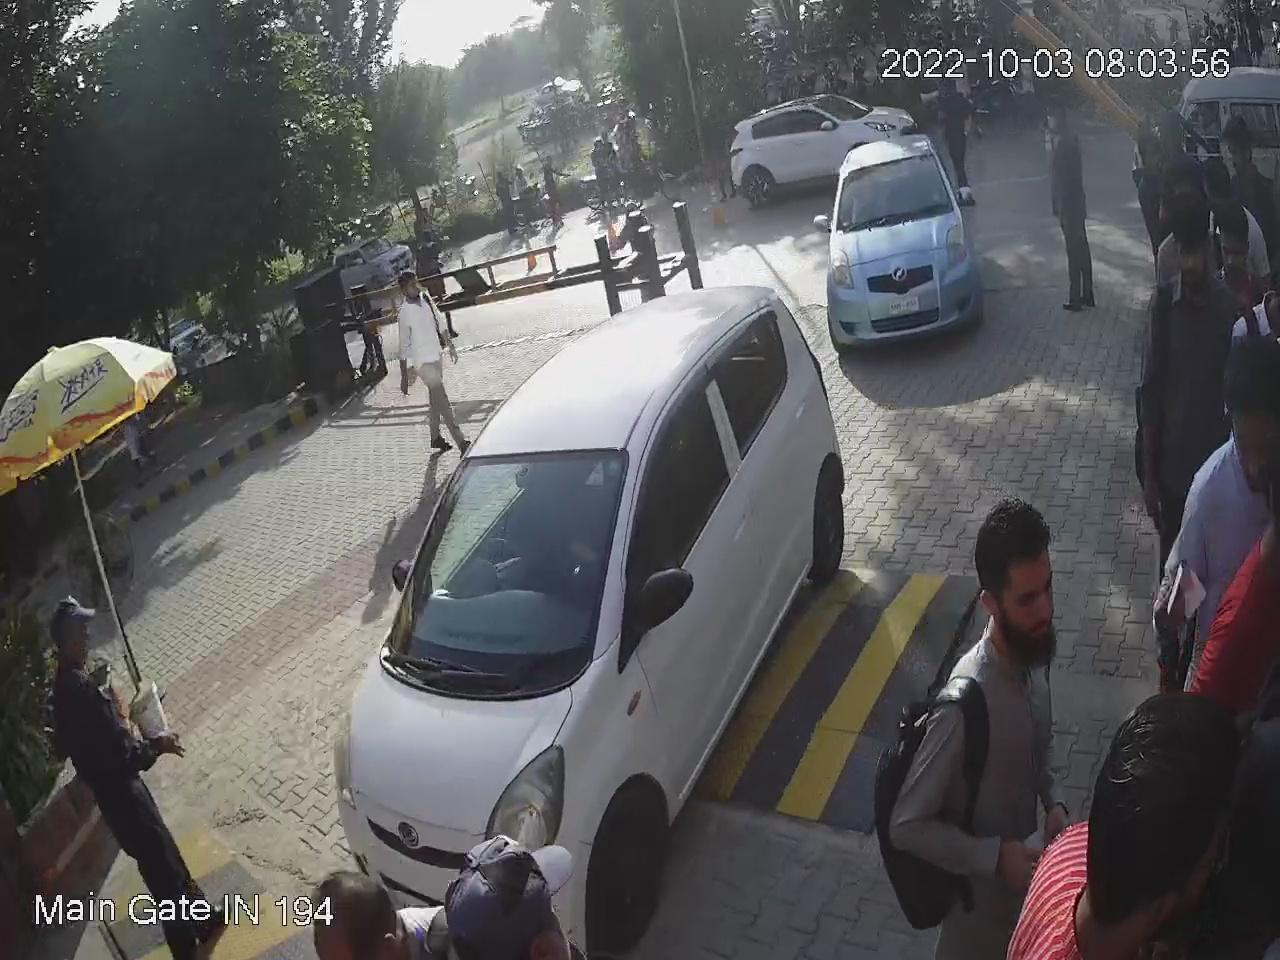windshield: (373, 443, 643, 690), (827, 145, 957, 235)
